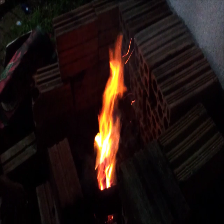fire_h: (92, 35, 133, 190)
fire_l: (107, 215, 114, 221)
